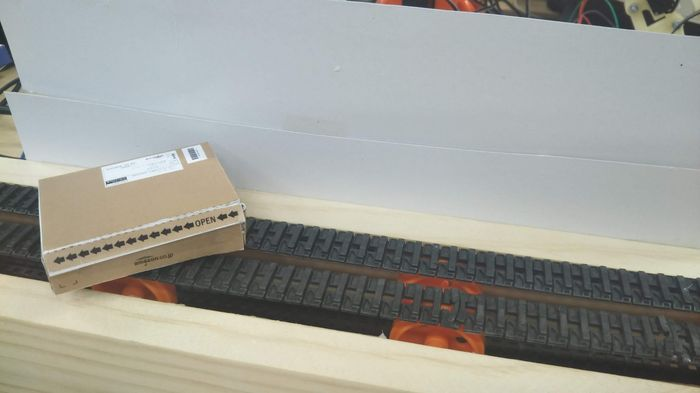box2: (34, 140, 248, 293)
